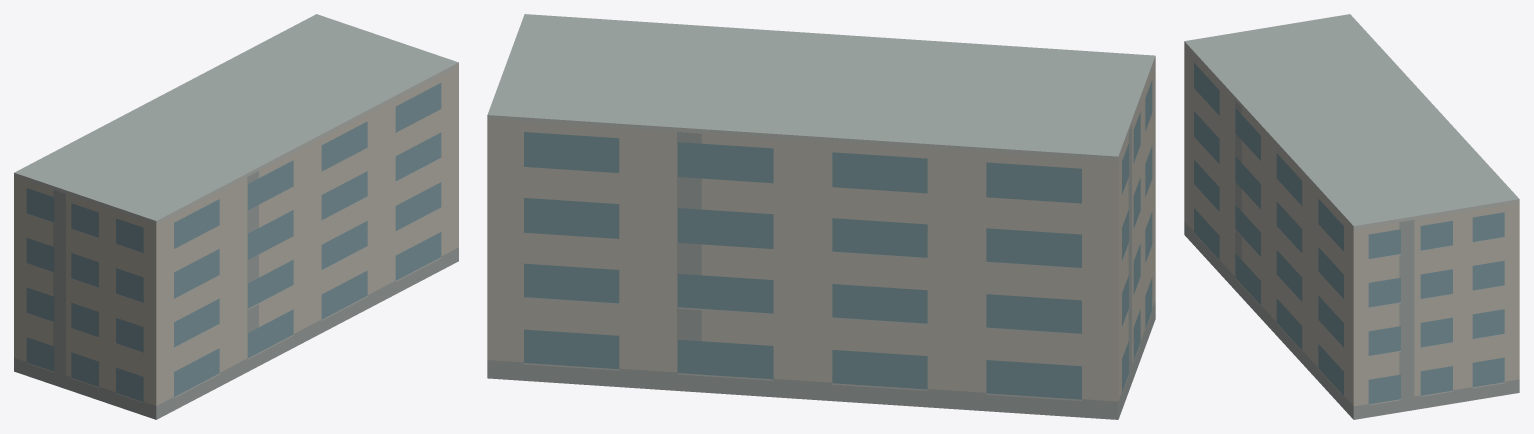
Rendered from residential-10850494-27d0-4a87-aef3-126ea6ca35ca.glb.
3 views of the same model, side by side, from view 1: azimuth 30°, elevation 25°; view 2: azimuth 150°, elevation 25°; view 3: azimuth 270°, elevation 25° (orthographic). The views are drawn at different scales.
Visible parts, largest first — view 1: residential-10850494-27d0-4a87-aef3-126ea6ca35ca.tmp; view 2: residential-10850494-27d0-4a87-aef3-126ea6ca35ca.tmp; view 3: residential-10850494-27d0-4a87-aef3-126ea6ca35ca.tmp.
Part boxes in pixels (x1=…): residential-10850494-27d0-4a87-aef3-126ea6ca35ca.tmp: x1=14, y1=14, x2=458, y2=419; residential-10850494-27d0-4a87-aef3-126ea6ca35ca.tmp: x1=487, y1=14, x2=1155, y2=419; residential-10850494-27d0-4a87-aef3-126ea6ca35ca.tmp: x1=1184, y1=14, x2=1519, y2=419.
Size of the model in its own units: 32.91 by 14 by 21.97.
